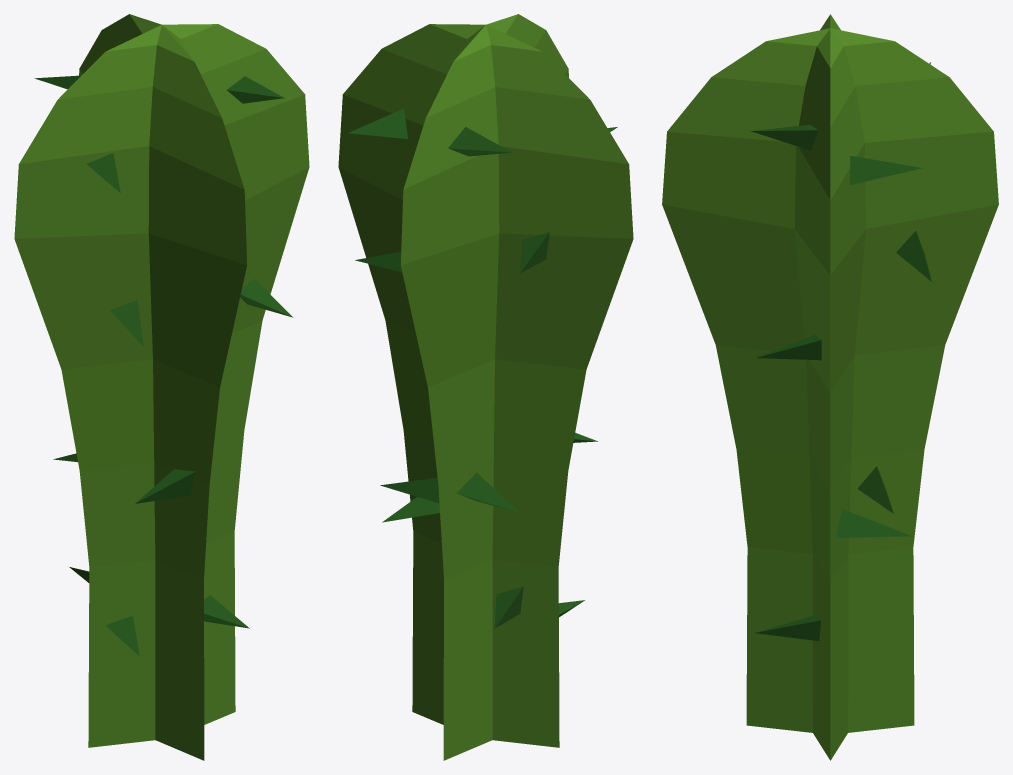
The model's file is Cactus_33_B.fbx.
3 views of the same model, side by side, from view 1: azimuth 30°, elevation 25°; view 2: azimuth 150°, elevation 25°; view 3: azimuth 270°, elevation 25° (orthographic).
Visible parts, largest first — view 1: Cactus_33_B; view 2: Cactus_33_B; view 3: Cactus_33_B.
Part boxes in pixels (<box>): Cactus_33_B: <box>14,14,309,760</box>; Cactus_33_B: <box>338,14,633,760</box>; Cactus_33_B: <box>662,14,998,760</box>.
Size of the model in its own units: 66.78 by 153 by 66.78.
